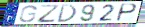2: (99, 4, 116, 22)
9: (79, 4, 96, 23)
D: (56, 4, 78, 23)
G: (18, 5, 38, 23)
P: (115, 3, 138, 22)
Z: (37, 4, 61, 24)
